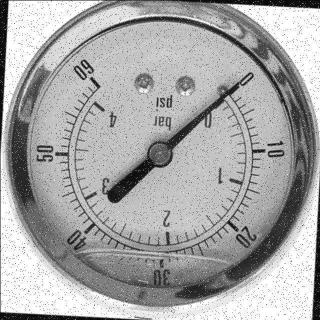gauge: (0, 0, 320, 320), (75, 63, 108, 93), (222, 71, 253, 101), (146, 140, 173, 168), (232, 77, 244, 89)
